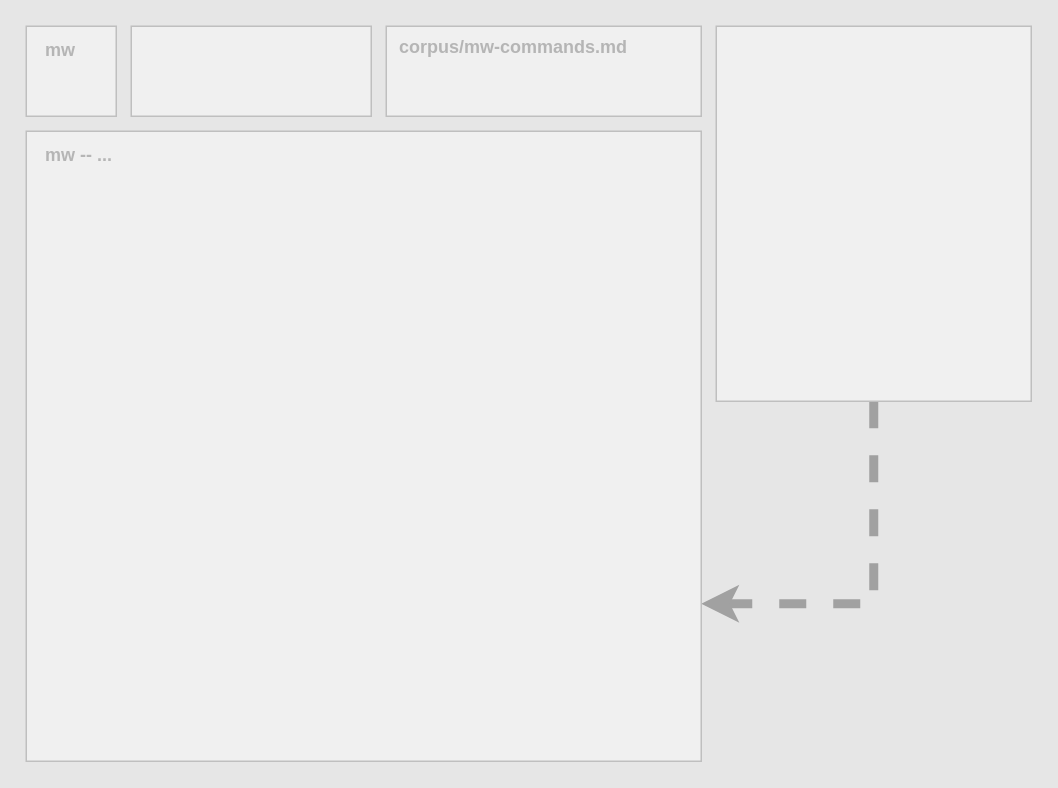
Image size: 1058x788. Some labels were removed from this diagram. The centre of each missing label's shape, as x and y in pixels:
"command" belongs at pixel 250 70.
"terminal" belongs at pixel 873 213.
